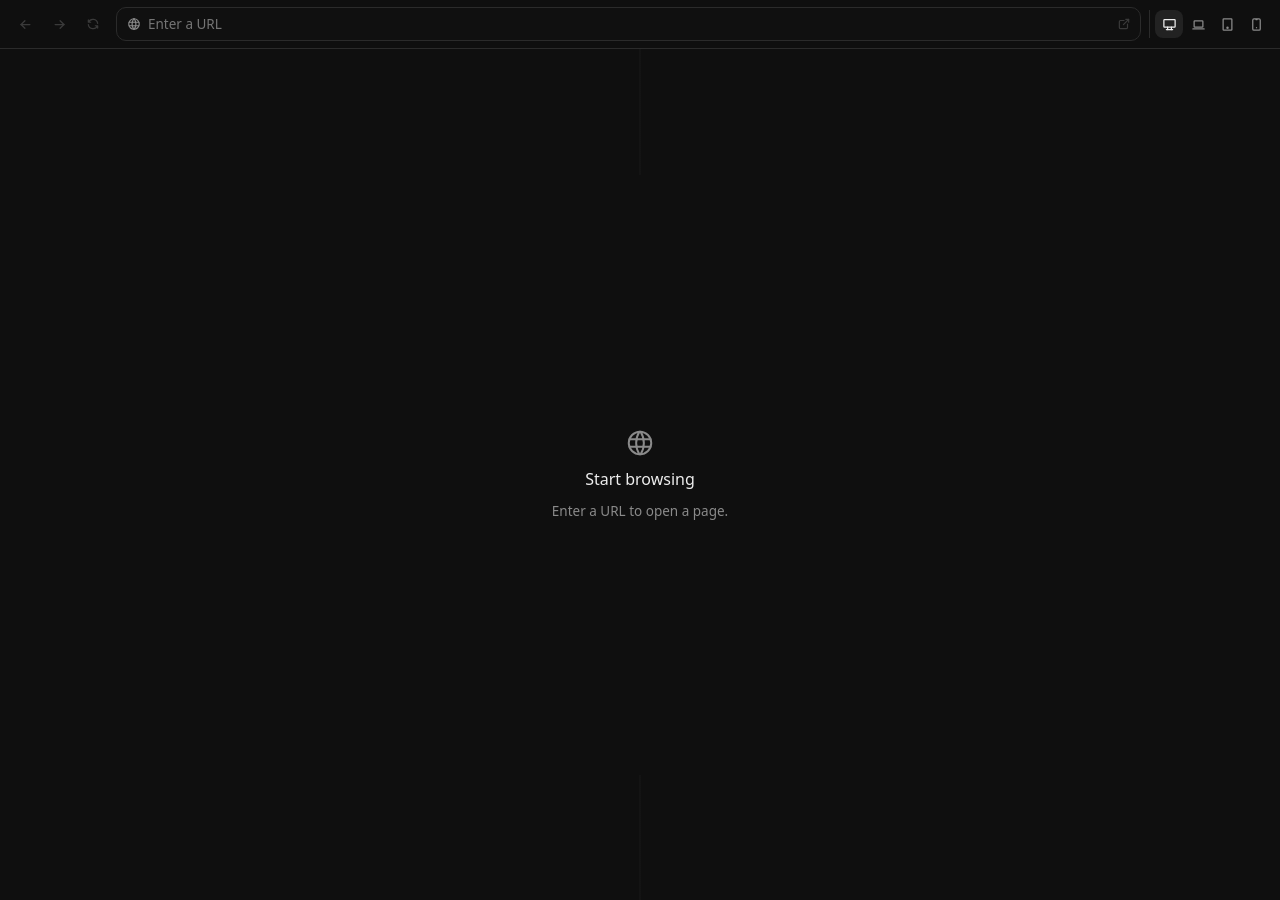
WorkspaceBrowser › shows a page skeleton only before the first page reaches dom-ready
The width and height of the screenshot is (1280, 900).
Later steps or results of the test are not shown.
Type "example.com/first" into the field named "Browser address".
click(626, 24); type("example.com/first")  # box [148,14,1103,34]
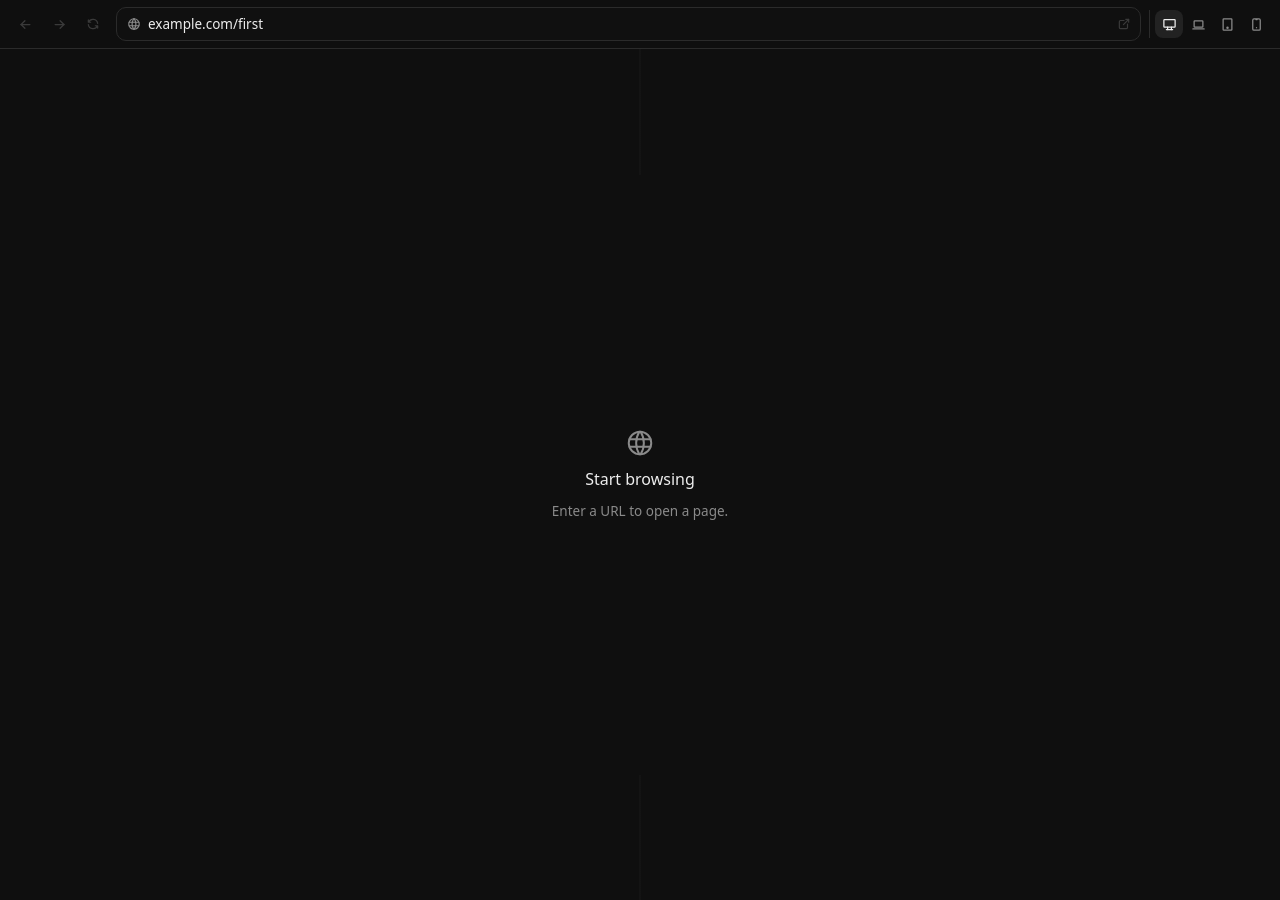
Submit the form named "Browser address", box [116,7,1141,41]
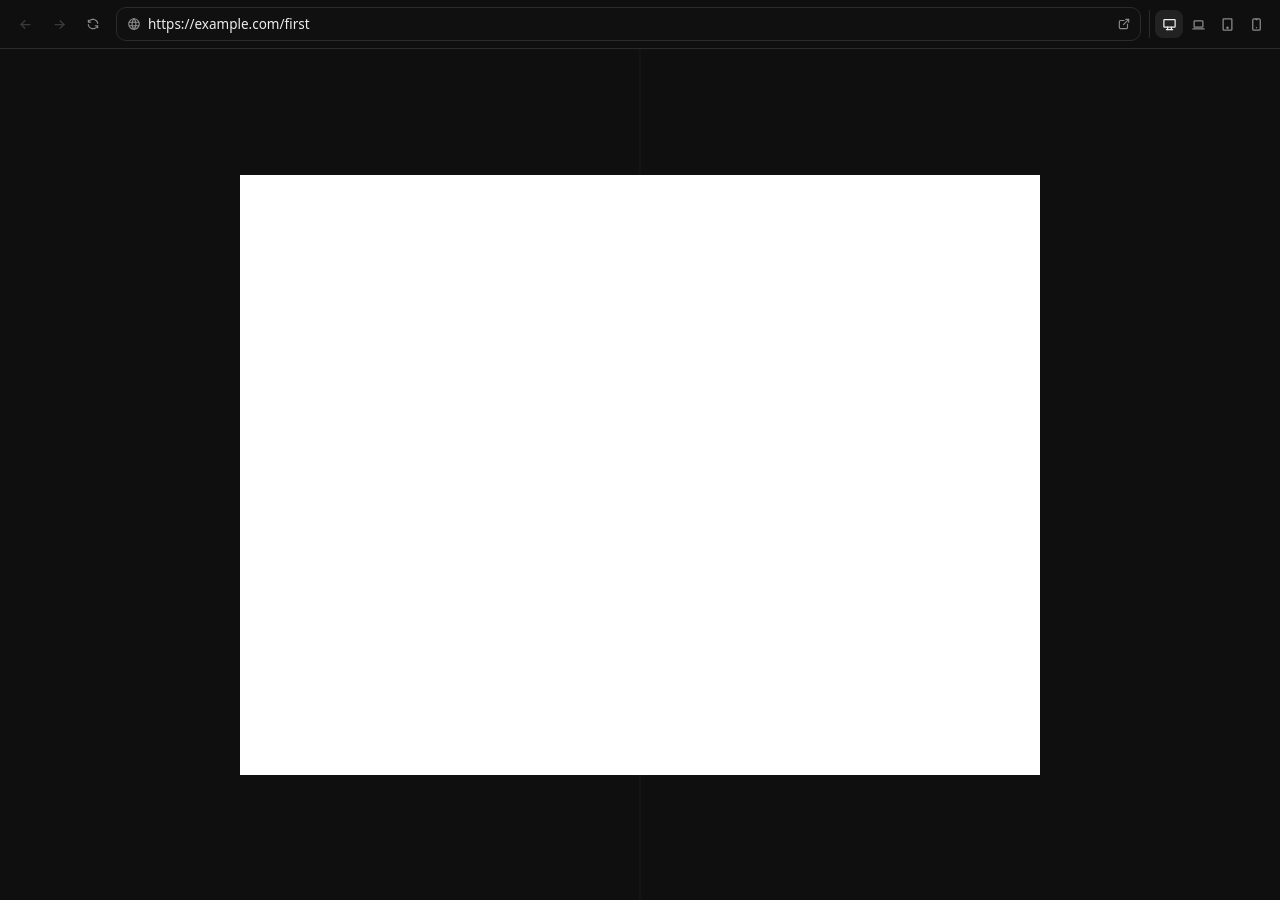
Check: the element with class "workspace-browser__placeholder" is gone
Replace the text in the field named "Browser address" with "example.com/second" at (626, 24), box [148,14,1103,34]
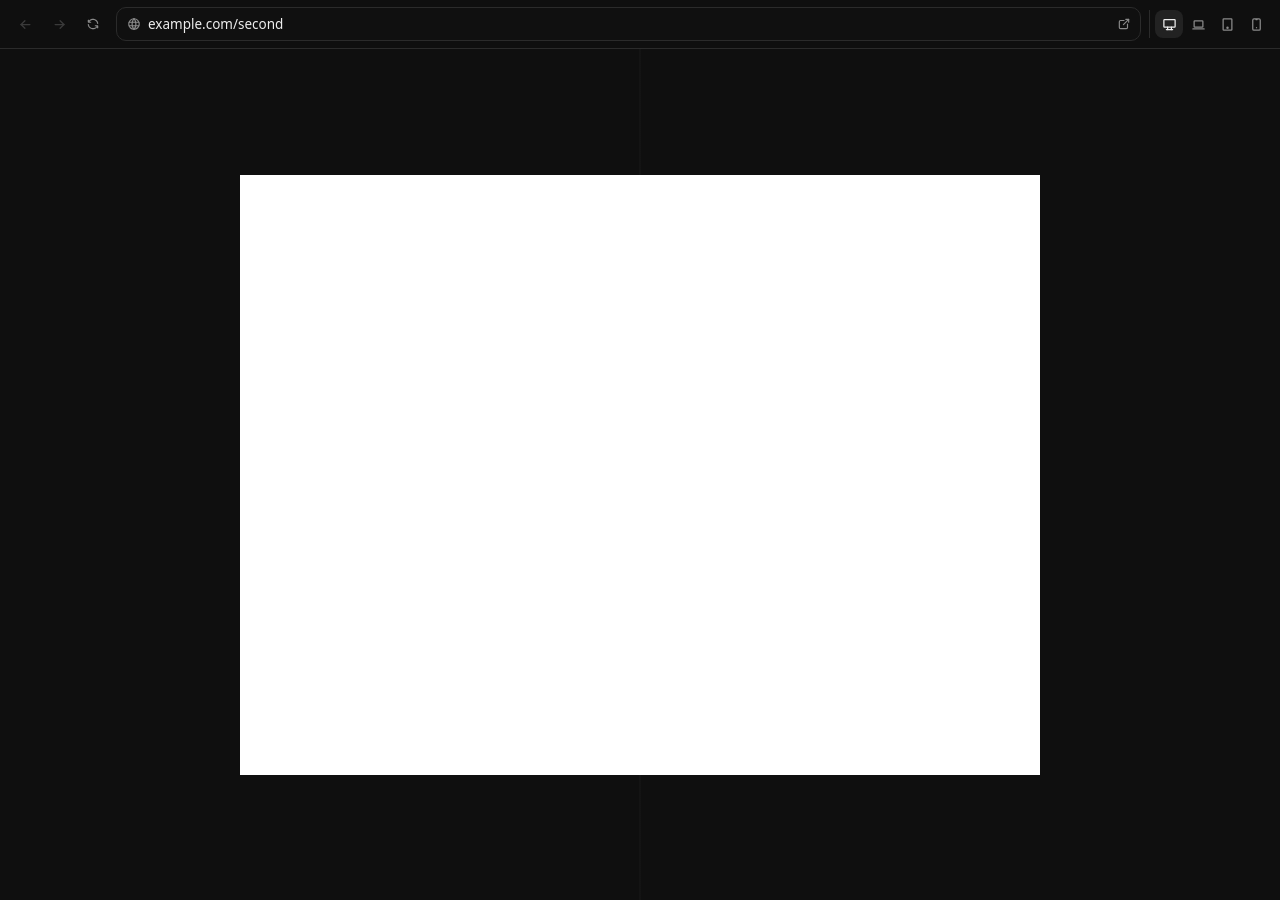
Submit the form named "Browser address", box [116,7,1141,41]
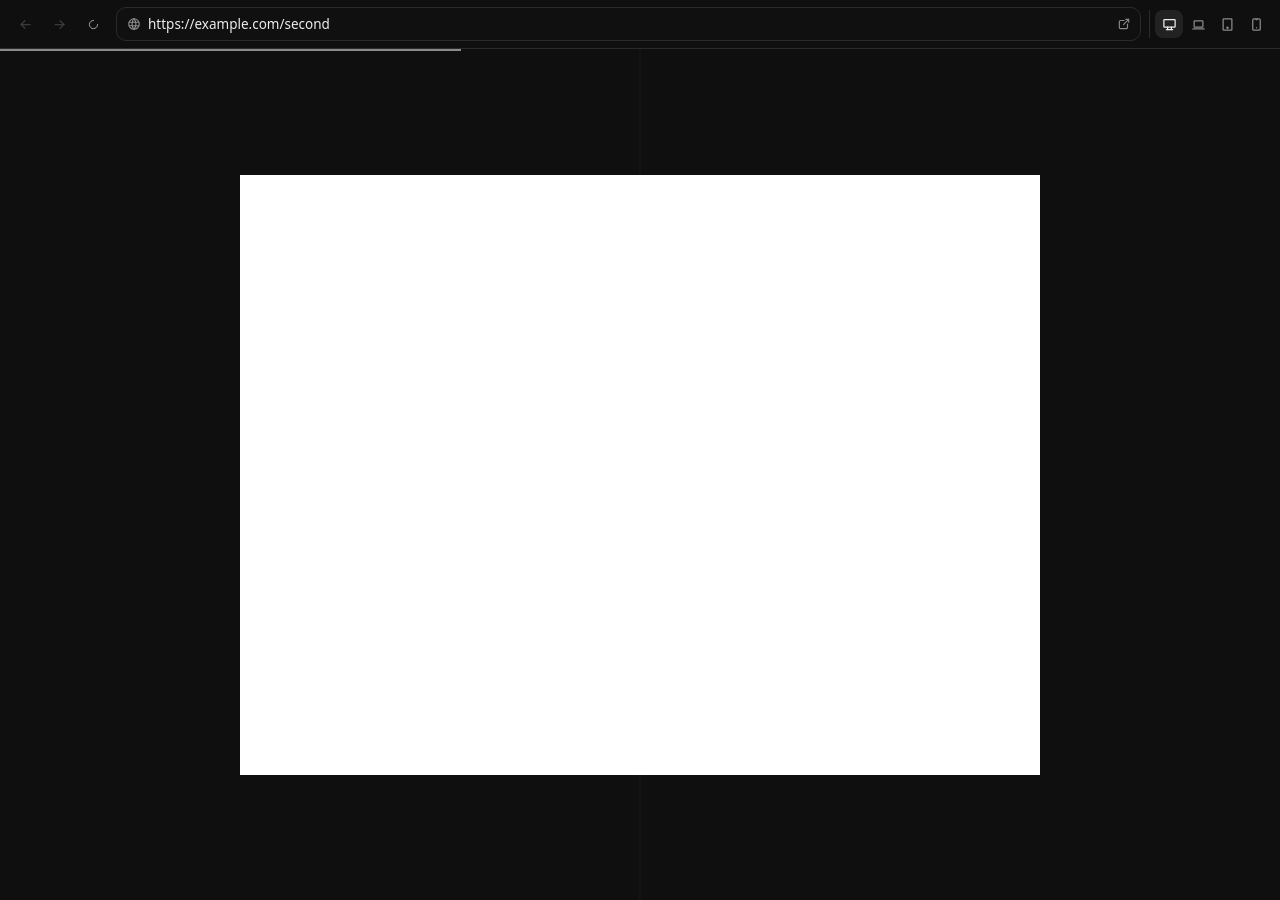
Check: the element with class "workspace-browser__guest-host" has attribute data-visible="true", box [240,174,1040,774]
